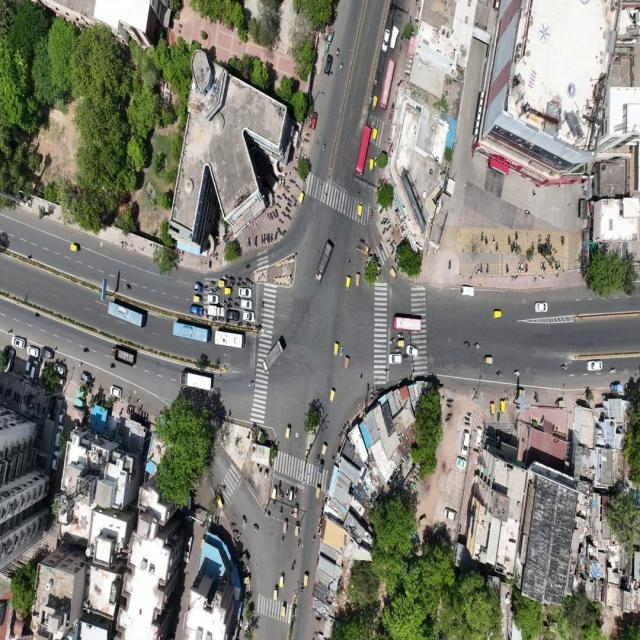3W: (212, 492, 224, 511), (343, 274, 352, 294), (328, 386, 337, 406), (283, 420, 292, 440), (386, 265, 398, 280), (491, 308, 504, 321), (69, 240, 81, 254), (354, 270, 362, 290), (320, 441, 330, 457), (278, 570, 286, 590), (332, 339, 339, 361), (373, 66, 380, 88), (489, 396, 496, 418), (371, 126, 379, 145), (192, 292, 203, 305), (193, 280, 203, 294), (368, 154, 374, 177), (293, 521, 302, 536), (482, 354, 493, 366), (297, 191, 306, 205), (272, 584, 279, 602), (281, 600, 288, 618), (293, 502, 300, 520), (356, 204, 363, 222), (500, 396, 506, 416), (303, 573, 310, 589), (282, 518, 289, 534), (344, 355, 350, 373), (315, 484, 321, 501), (319, 459, 325, 476), (271, 483, 277, 500), (223, 286, 233, 296), (373, 95, 378, 114), (339, 344, 344, 361), (218, 280, 226, 288), (396, 340, 405, 347)
Bus: (106, 300, 146, 334), (379, 58, 399, 114), (172, 321, 210, 346), (356, 123, 372, 180), (213, 329, 246, 352), (390, 313, 427, 331)
Cars: (458, 428, 472, 456), (51, 424, 67, 448), (443, 503, 458, 525), (49, 450, 63, 470), (380, 26, 390, 54), (460, 283, 476, 300), (406, 343, 422, 359), (109, 383, 124, 400), (56, 406, 70, 424), (585, 359, 604, 372), (52, 362, 68, 377), (324, 54, 334, 78), (533, 299, 549, 314), (42, 344, 56, 360), (310, 109, 319, 131), (11, 336, 27, 348), (188, 305, 204, 317), (204, 293, 220, 305), (23, 359, 32, 380), (241, 310, 256, 322), (387, 354, 402, 366), (32, 359, 40, 381), (26, 345, 40, 357), (238, 287, 253, 298), (239, 300, 253, 310), (227, 310, 240, 320), (289, 486, 294, 502)
LCV: (207, 306, 226, 317)
M2W: (250, 521, 260, 535), (355, 184, 363, 200), (386, 112, 394, 126), (608, 366, 619, 376), (123, 280, 131, 293), (376, 240, 384, 253), (368, 91, 374, 108), (504, 259, 510, 276), (558, 361, 568, 371), (82, 344, 90, 356), (322, 138, 328, 154), (447, 254, 452, 273), (243, 262, 252, 272), (290, 556, 296, 571), (296, 538, 302, 553), (511, 368, 521, 377), (247, 379, 255, 390), (246, 235, 252, 249), (346, 255, 352, 269), (240, 514, 247, 526), (335, 45, 341, 59), (463, 336, 470, 348), (465, 408, 474, 417), (253, 234, 258, 250), (315, 453, 321, 466), (368, 208, 374, 221), (524, 205, 530, 218), (524, 261, 530, 274), (31, 312, 40, 320), (264, 212, 270, 224), (265, 507, 271, 519), (338, 62, 344, 74), (370, 118, 376, 130), (483, 234, 489, 246), (546, 232, 552, 244), (403, 351, 408, 365), (388, 335, 395, 345), (474, 340, 481, 350), (496, 368, 503, 378), (497, 412, 502, 426), (390, 101, 396, 112), (445, 397, 456, 403), (275, 194, 283, 202), (480, 261, 484, 277), (109, 360, 116, 369), (289, 177, 296, 186), (485, 262, 490, 274), (490, 233, 495, 245), (537, 231, 542, 243), (446, 403, 456, 409), (294, 486, 298, 500), (393, 346, 400, 354), (475, 263, 480, 274), (538, 261, 543, 272), (560, 235, 565, 246), (557, 259, 562, 270), (278, 216, 284, 225), (284, 187, 290, 196), (271, 502, 277, 511), (312, 533, 316, 546), (480, 230, 484, 243), (381, 226, 386, 236), (514, 230, 519, 240), (462, 422, 472, 427), (229, 274, 235, 282), (274, 230, 278, 242), (286, 202, 294, 208), (295, 184, 301, 192), (507, 232, 511, 244), (544, 261, 548, 273), (446, 412, 454, 418), (282, 210, 287, 219), (380, 215, 385, 224), (280, 505, 284, 516), (517, 263, 521, 274), (210, 280, 216, 287), (203, 284, 209, 291), (222, 273, 228, 280), (226, 296, 233, 302), (226, 303, 233, 309), (233, 302, 240, 308), (386, 225, 392, 232), (397, 332, 404, 338), (464, 416, 471, 422), (272, 210, 276, 220), (278, 478, 281, 491), (236, 276, 242, 282), (265, 234, 268, 246), (270, 232, 273, 244), (276, 203, 282, 209), (391, 247, 395, 256), (387, 236, 391, 245), (281, 492, 284, 503), (286, 486, 288, 502), (242, 282, 248, 287), (235, 282, 241, 287), (260, 232, 262, 246), (250, 281, 254, 287), (221, 299, 225, 305)
Truck: (310, 237, 336, 288), (177, 364, 213, 398), (260, 339, 292, 373), (109, 343, 139, 372)
